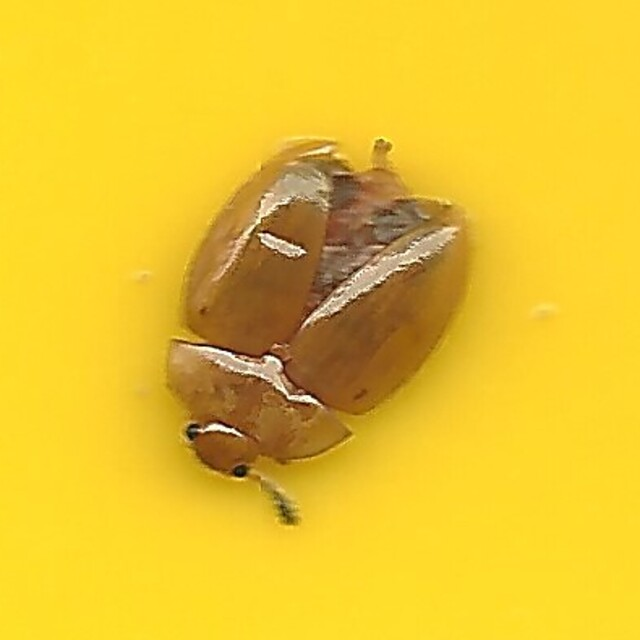Coleoptera: (162, 143, 478, 497)
